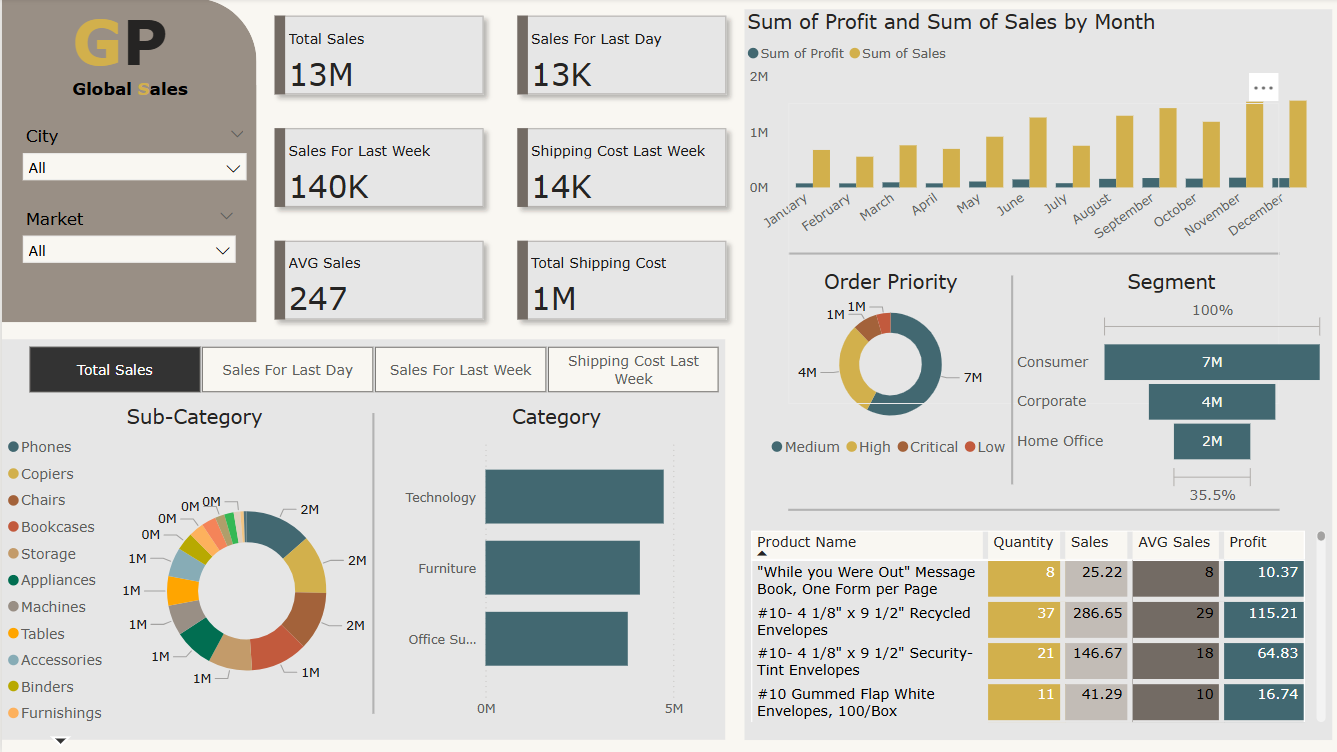

The page's visual inventory and layout, read from the dashboard file:
{"tool":"powerbi","page":{"name":"Page 1","canvas":[1280,720],"ordinal":0},"visuals":[{"type":"shape","box":[0,0,242.5,308.8],"z":0},{"type":"textbox","box":[61.7,60.4,266.2,81],"z":1000},{"type":"textbox","box":[61.7,0,171.5,89.2],"z":2000},{"type":"cardVisual","fields":{"Data":["Orders.Total Sales","Orders.Sales For Last Day","Orders.Sales For Last Week","Orders.Shipping Cost For Last Week","Orders.AVG Sales","Orders.Total Shipping Cost"]},"box":[242.5,0,464.5,325.7],"z":3000},{"type":"shape","box":[0,325.2,688.9,381.5],"z":4000},{"type":"slicer","fields":{"Values":["Matrix .Matrix "]},"box":[0,325.2,706.7,53.5],"z":5000},{"type":"donutChart","title":"Sub-Category","fields":{"Y":["Orders.Sales For Last Day"],"Category":["Orders.Sub-Category"]},"box":[0,387,366.4,333.4],"z":6000},{"type":"shape","box":[218.2,395.2,271.7,286.8],"z":7000},{"type":"barChart","title":" Category","fields":{"Y":["Orders.Sales For Last Day"],"Category":["Orders.Category"]},"box":[366.7,386.9,322.6,307.1],"z":8000},{"type":"shape","box":[707,10.9,559.8,696.1],"z":9000},{"type":"clusteredColumnChart","fields":{"Category":["Orders.Order Date.Variation.Date Hierarchy.Month"],"Y":["Sum(Orders.Profit)","Sum(Orders.Sales)"]},"box":[705.3,11,559.9,231.9],"z":10000},{"type":"donutChart","title":"Order Priority","fields":{"Y":["Orders.Sales For Last Day"],"Category":["Orders.Order Priority"]},"box":[706.7,258,278.6,188],"z":11000},{"type":"shape","box":[752.4,147.6,466.7,189.3],"z":12000},{"type":"shape","box":[826.1,264.8,271.7,199],"z":13000},{"type":"funnel","title":" Segment","fields":{"Y":["Orders.Sales For Last Day"],"Category":["Orders.Segment"]},"box":[961.9,258,303.3,230.5],"z":14000},{"type":"shape","box":[749.2,344.4,467.9,286.8],"z":15000},{"type":"tableEx","fields":{"Values":["Orders.Product Name","Sum(Orders.Quantity)","Sum(Orders.Sales)","Orders.AVG Sales","Sum(Orders.Profit)"]},"box":[706.7,502.2,558.5,192.1],"z":16000},{"type":"slicer","fields":{"Values":["Orders.City"]},"box":[9.6,116.6,233.3,63.1],"z":17000},{"type":"slicer","fields":{"Values":["Orders.Market"]},"box":[9.7,195.4,223.2,62.7],"z":18000}]}

Visuals, with their boxes in screenshot pixels (x1, y1, x2, y2), scaled from the page's 1280x720 canvas onto the 1337x752 screenshot:
shape: <bbox>0, 0, 253, 323</bbox>
textbox: <bbox>64, 63, 343, 148</bbox>
textbox: <bbox>64, 0, 244, 93</bbox>
cardVisual - Orders.Total Sales x Orders.Sales For Last Day: <bbox>253, 0, 738, 340</bbox>
shape: <bbox>0, 340, 720, 738</bbox>
slicer - Matrix .Matrix : <bbox>0, 340, 738, 396</bbox>
"Sub-Category" donutChart: <bbox>0, 404, 383, 751</bbox>
shape: <bbox>228, 413, 512, 712</bbox>
" Category" barChart: <bbox>383, 404, 720, 725</bbox>
shape: <bbox>738, 11, 1323, 738</bbox>
clusteredColumnChart - Orders.Order Date.Variation.Date Hierarchy.Month x Sum(Orders.Profit): <bbox>737, 11, 1322, 254</bbox>
"Order Priority" donutChart: <bbox>738, 269, 1029, 466</bbox>
shape: <bbox>786, 154, 1273, 352</bbox>
shape: <bbox>863, 277, 1147, 484</bbox>
" Segment" funnel: <bbox>1005, 269, 1322, 510</bbox>
shape: <bbox>783, 360, 1271, 659</bbox>
tableEx - Orders.Product Name x Sum(Orders.Quantity): <bbox>738, 525, 1322, 725</bbox>
slicer - Orders.City: <bbox>10, 122, 254, 188</bbox>
slicer - Orders.Market: <bbox>10, 204, 243, 270</bbox>
